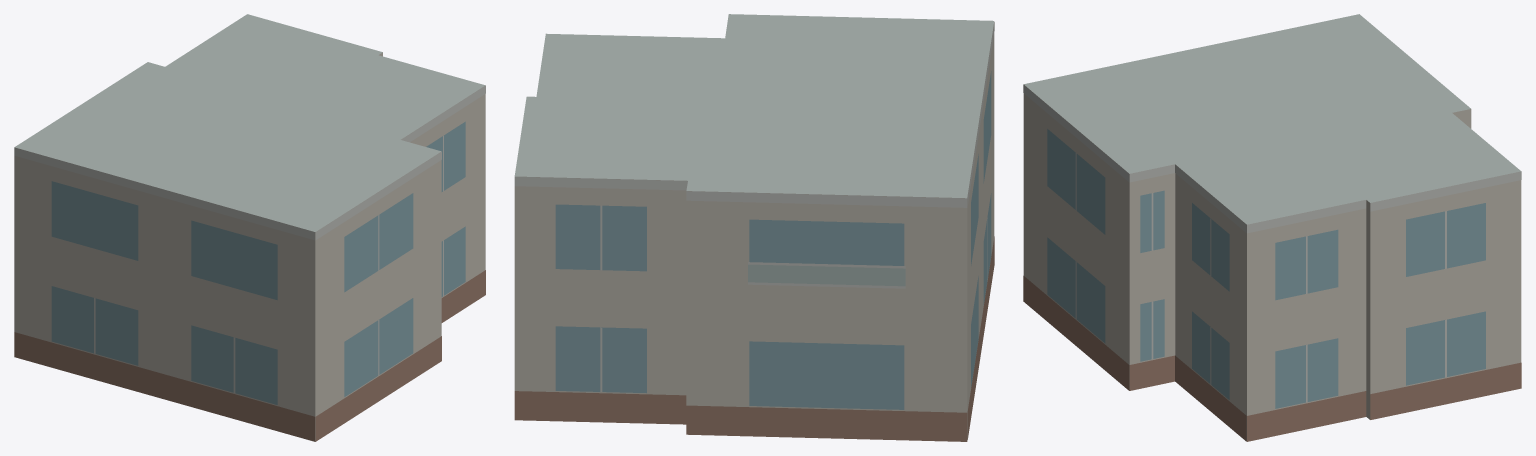
The model's file is survey-upis-32829099.glb.
The picture shows the model from 3 angles, left to right: view 1: azimuth 30°, elevation 25°; view 2: azimuth 150°, elevation 25°; view 3: azimuth 270°, elevation 25°; orthographic projection. The views are drawn at different scales.
Visible parts, largest first — view 1: survey-upis-32829099.tmp; view 2: survey-upis-32829099.tmp; view 3: survey-upis-32829099.tmp.
Part boxes in pixels (x1,y1,x2,y2): survey-upis-32829099.tmp: (14,14,485,441); survey-upis-32829099.tmp: (514,14,994,441); survey-upis-32829099.tmp: (1023,14,1521,441).
Bounding box in the file's own units: 12.71 × 6.1 × 12.69.
